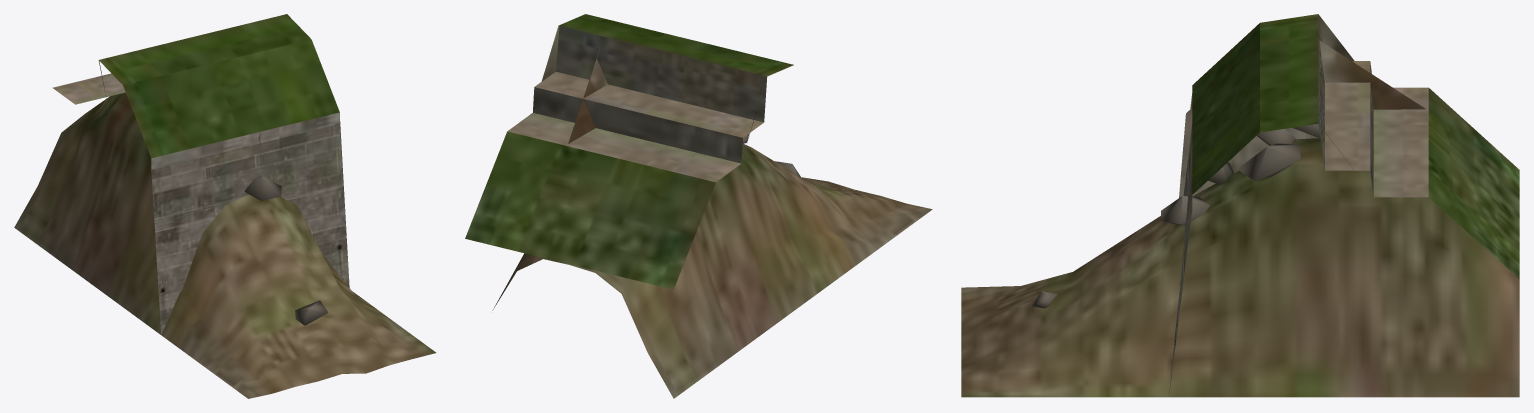
File: starfort_ravelin_wall_far.glb
3 renders of one model, left to right at view 1: azimuth 30°, elevation 25°; view 2: azimuth 150°, elevation 25°; view 3: azimuth 270°, elevation 25°, orthographic. The views are drawn at different scales.
Visible parts, largest first — view 1: breached, intact; view 2: intact, breached; view 3: breached, intact, endcap_a.
Boxes of the visible parts, x1=… form: breached: x1=14, y1=14, x2=436, y2=398; intact: x1=52, y1=14, x2=349, y2=334; intact: x1=465, y1=14, x2=793, y2=289; breached: x1=466, y1=15, x2=932, y2=398; breached: x1=961, y1=14, x2=1519, y2=397; intact: x1=1169, y1=14, x2=1519, y2=393; endcap_a: x1=1190, y1=14, x2=1354, y2=108.
Size of what is drawn, in the model's own units: 4.07 by 4.72 by 8.6.
1 material, 1 textured.
